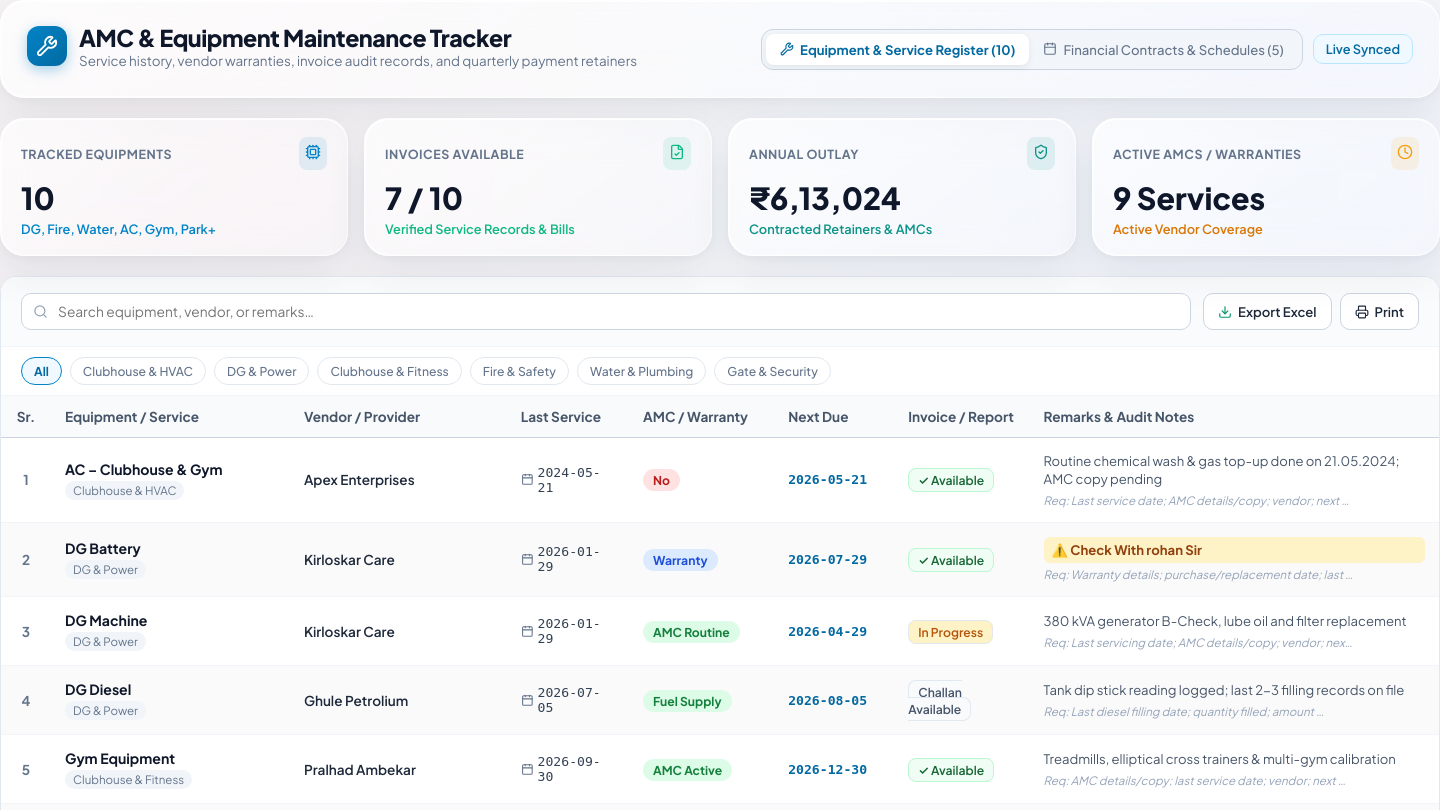
Test: AmcTracker Component › filters equipment records when searching
The width and height of the screenshot is (1440, 810).
Expected: the text "AC – Clubhouse & Gym" is shown, [65, 460, 222, 478]
Expected: the text "DG Battery" is shown, [65, 539, 141, 557]
In the field with placeholder "Search equipment, vendor, or remarks…": (606,312) [21, 293, 1191, 330], type "rohan"
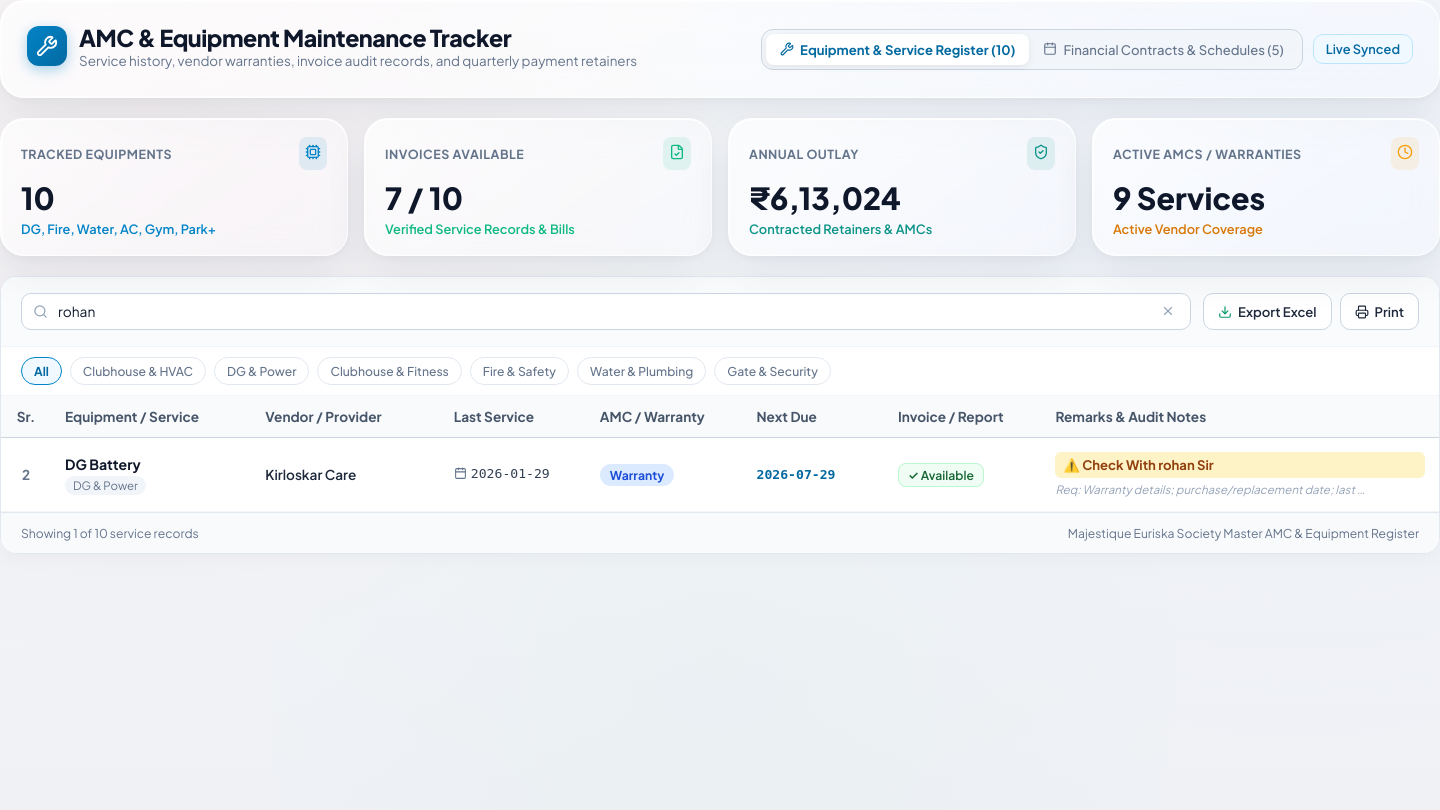
Expected: the text "DG Battery" is shown, [65, 455, 141, 473]
Expected: the text "AC – Clubhouse & Gym" is gone
